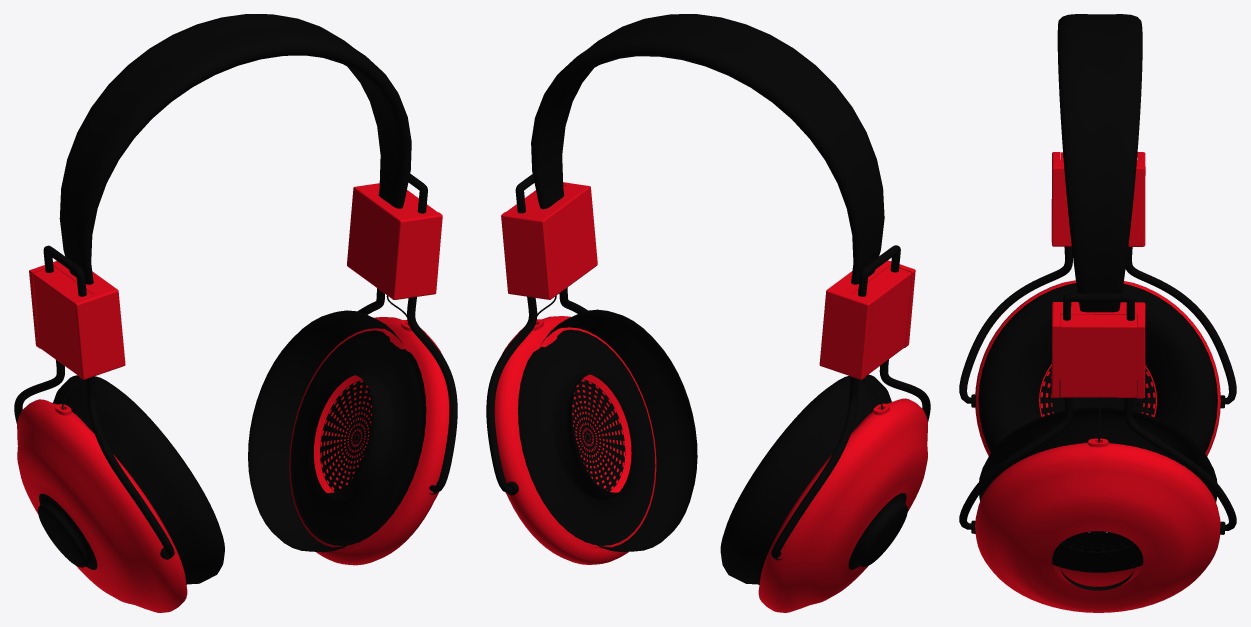
File: Headphones low poly.glb
3 views of the same model, side by side, from view 1: azimuth 30°, elevation 25°; view 2: azimuth 150°, elevation 25°; view 3: azimuth 270°, elevation 25° (orthographic). The views are drawn at different scales.
Visible parts, largest first — view 1: Cilindro.001, Cilindro.002, Curva NURBS.053, Cubo.002, Cubo.221, Cubo.001, Curva NURBS.045, Curva NURBS.002; view 2: Cilindro.001, Cilindro.002, Curva NURBS.053, Cubo.002, Cubo.221, Cubo.001, Curva NURBS.045, Curva NURBS.002; view 3: Cilindro.001, Curva NURBS.053, Cilindro.002, Cubo.003, Curva NURBS.002, Curva NURBS.045, Cubo.221, Cubo.002.
Part boxes in pixels (box(x1,y1,x2,y2)): Cilindro.001: box(248, 310, 449, 565); Cilindro.002: box(17, 375, 224, 612); Curva NURBS.053: box(59, 14, 411, 284); Cubo.002: box(347, 183, 442, 299); Cubo.221: box(29, 261, 125, 379); Cubo.001: box(33, 266, 92, 375); Curva NURBS.045: box(14, 245, 174, 557); Curva NURBS.002: box(357, 173, 457, 492); Cilindro.001: box(494, 309, 697, 564); Cilindro.002: box(720, 374, 927, 612); Curva NURBS.053: box(531, 14, 884, 284); Cubo.002: box(501, 182, 597, 299); Cubo.221: box(819, 260, 915, 379); Cubo.001: box(852, 265, 911, 375); Curva NURBS.045: box(771, 245, 930, 558); Curva NURBS.002: box(486, 174, 587, 493); Cilindro.001: box(971, 407, 1225, 612); Curva NURBS.053: box(1057, 14, 1142, 312); Cilindro.002: box(971, 280, 1225, 456); Cubo.003: box(1060, 314, 1136, 397); Curva NURBS.002: box(959, 293, 1236, 530); Curva NURBS.045: box(959, 153, 1236, 404); Cubo.221: box(1051, 152, 1145, 246); Cubo.002: box(1051, 302, 1145, 398).
Bounding box in the file's own units: 0.7321 × 0.9837 × 0.4621.
